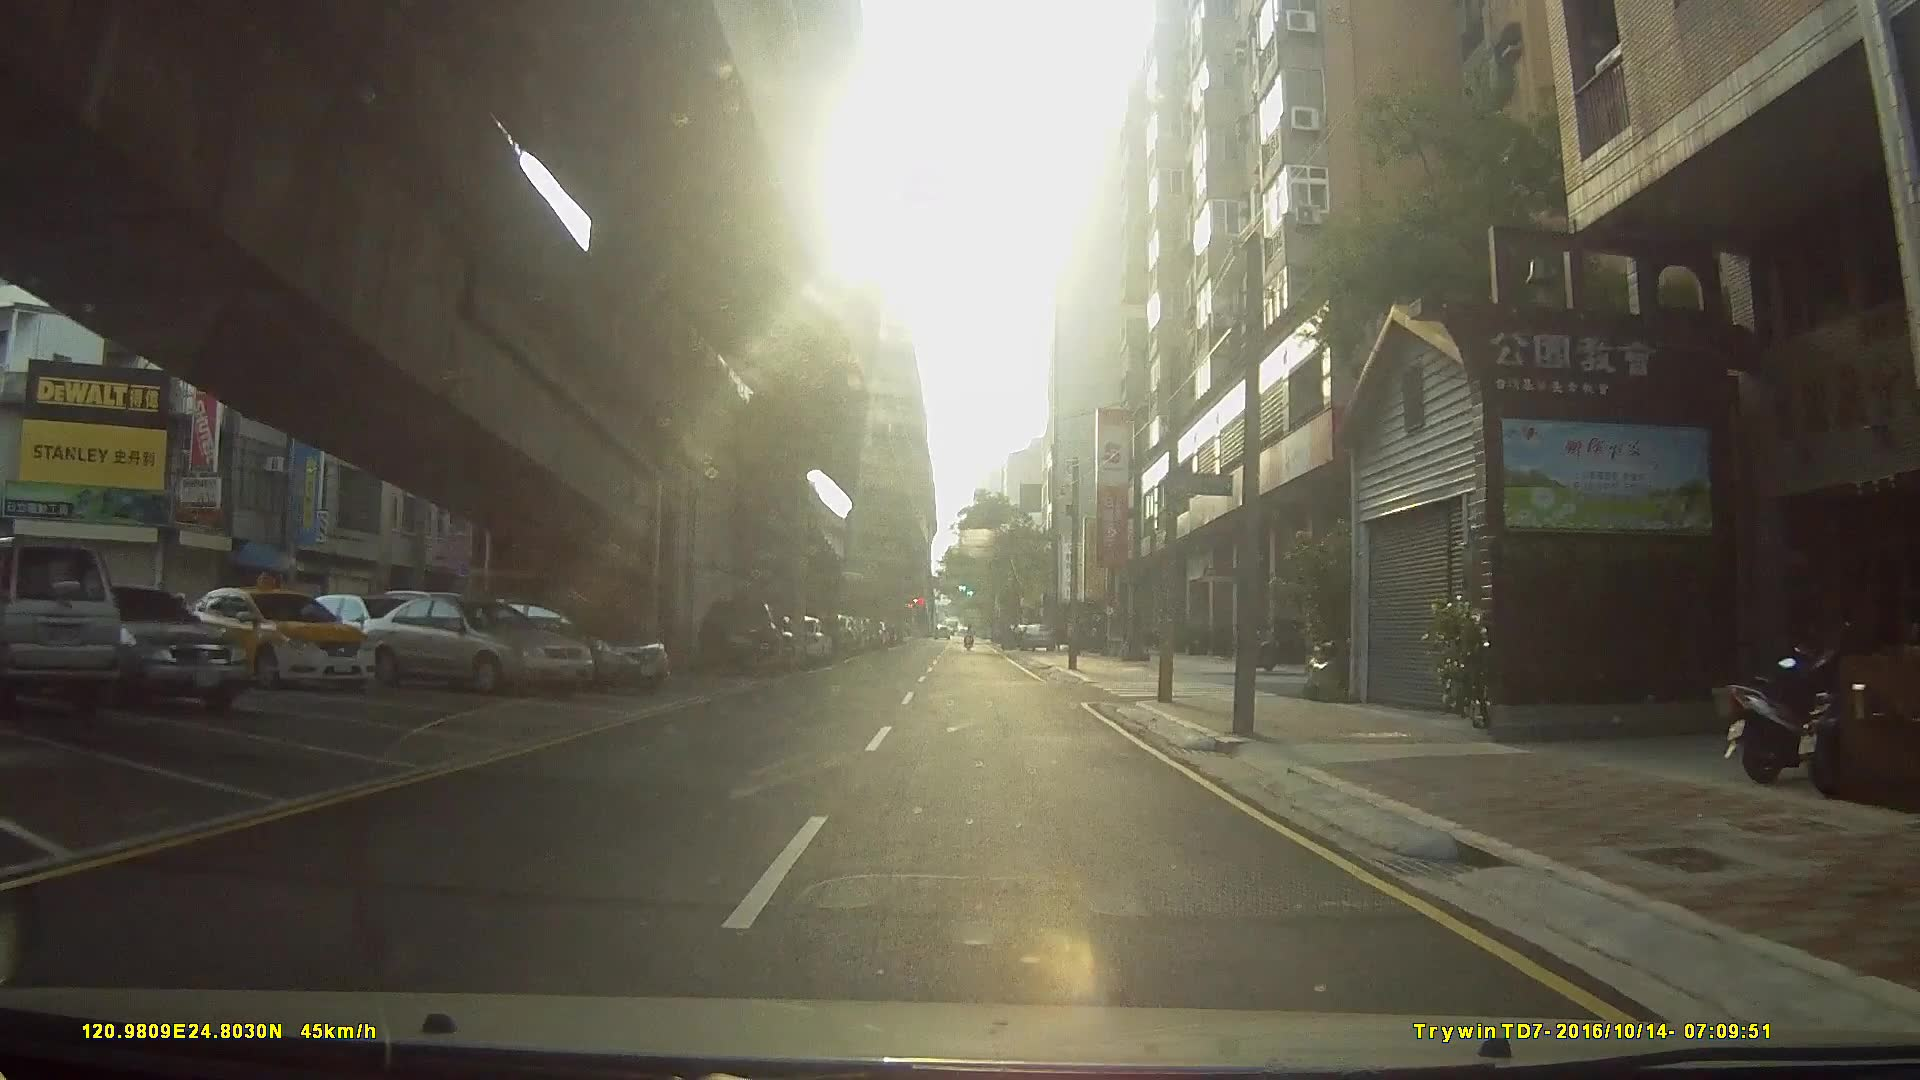vehicle: (38, 584, 249, 712), (348, 595, 589, 698), (435, 597, 669, 698), (0, 534, 123, 713), (182, 589, 371, 694), (694, 597, 787, 676)
